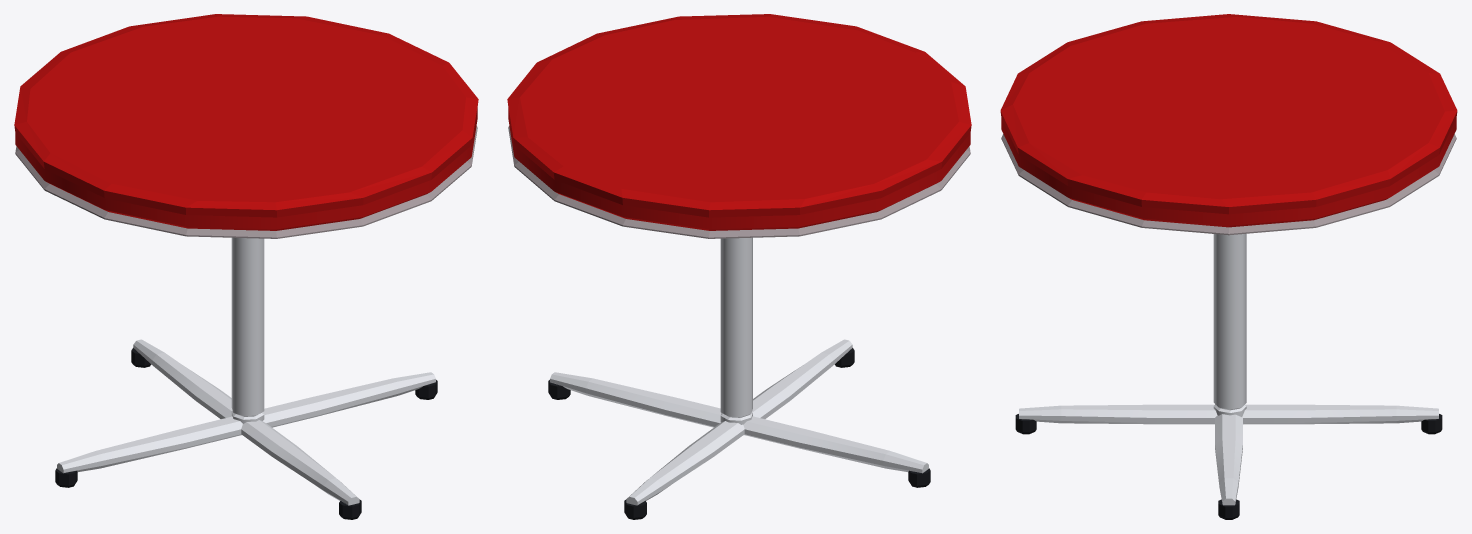
File: SM_table_03.fbx
3 renders of one model, left to right at view 1: azimuth 30°, elevation 25°; view 2: azimuth 150°, elevation 25°; view 3: azimuth 270°, elevation 25°, orthographic. The views are drawn at different scales.
Parts seen in each view (by area): view 1: table_03; view 2: table_03; view 3: table_03.
Part boxes in pixels (bbox=[...]): table_03: bbox=[14, 14, 478, 519]; table_03: bbox=[507, 14, 971, 519]; table_03: bbox=[1000, 14, 1457, 519].
Bounding box in the file's own units: 114 × 88.58 × 114.
